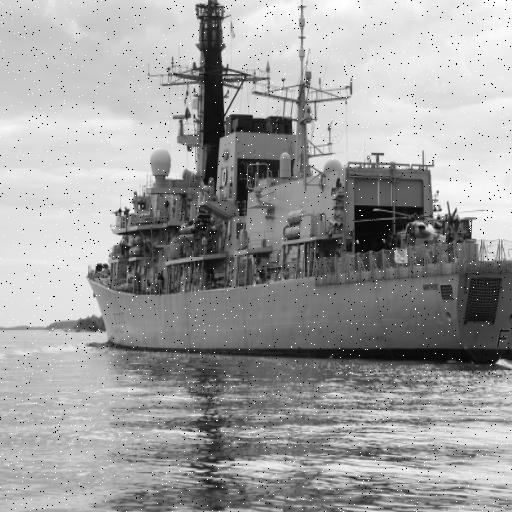Fragata: (83, 1, 512, 364)
